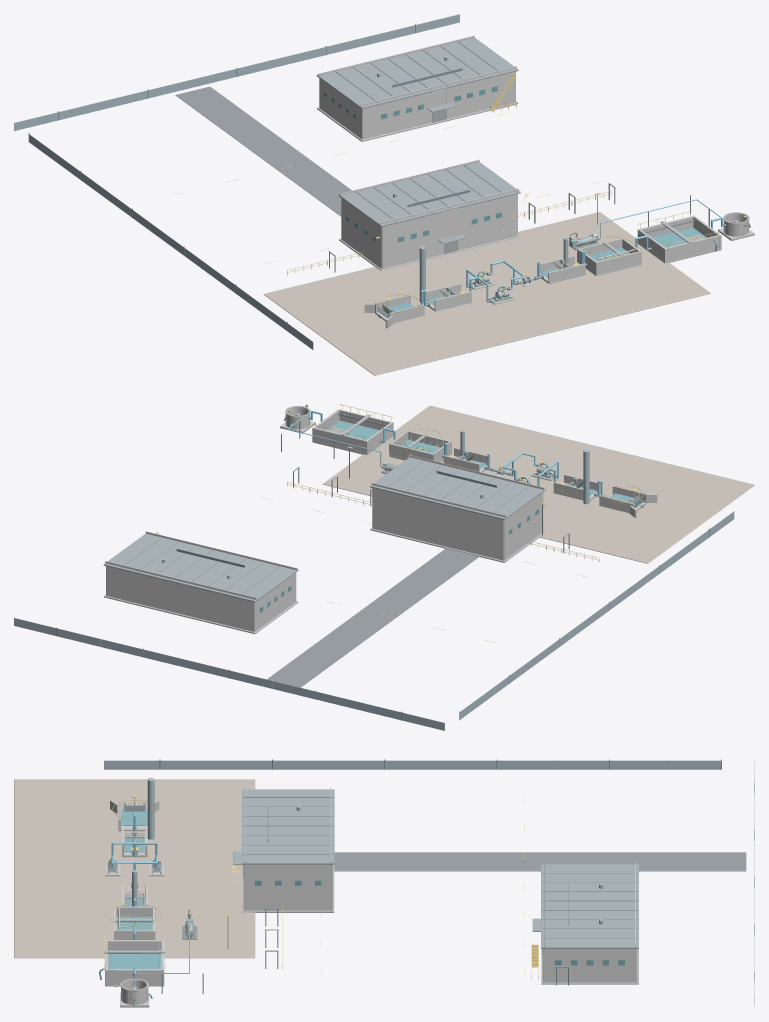
3 views of the same model, one above another, from view 1: azimuth 30°, elevation 25°; view 2: azimuth 150°, elevation 25°; view 3: azimuth 270°, elevation 25° (orthographic). The views are drawn at different scales.
Visible parts, largest first — view 1: render-batch-15, render-batch-17, render-batch-7, render-batch-9, render-batch-16, render-batch-4, render-batch-2, render-batch-1, render-batch-3, render-batch-14, render-batch-19, render-batch-0; view 2: render-batch-15, render-batch-17, render-batch-7, render-batch-9, render-batch-4, render-batch-16, render-batch-2, render-batch-14, render-batch-3, render-batch-1, render-batch-20; view 3: render-batch-15, render-batch-7, render-batch-17, render-batch-4, render-batch-9, render-batch-16, render-batch-2, render-batch-14, render-batch-5, render-batch-3, render-batch-1, render-batch-12.
Part boxes in pixels (x1,y1,x2,y2): render-batch-15: (263,212,710,375); render-batch-17: (318,35,518,268); render-batch-7: (316,38,520,243); render-batch-9: (14,14,615,349); render-batch-16: (364,214,754,328); render-batch-4: (175,86,351,216); render-batch-2: (377,221,750,318); render-batch-1: (28,24,709,331); render-batch-3: (421,199,724,306); render-batch-14: (317,101,520,270); render-batch-19: (287,73,611,274); render-batch-0: (324,86,501,242); render-batch-15: (322,405,754,563); render-batch-17: (105,455,544,631); render-batch-7: (103,457,545,602); render-batch-9: (14,430,734,730); render-batch-4: (267,548,479,687); render-batch-16: (280,407,657,517); render-batch-2: (284,414,644,507); render-batch-14: (104,528,545,634); render-batch-3: (287,410,602,496); render-batch-1: (56,421,709,720); render-batch-20: (288,404,643,502); render-batch-15: (14,779,255,958); render-batch-7: (233,789,638,948); render-batch-17: (243,787,637,982); render-batch-4: (334,852,746,871); render-batch-9: (104,760,754,1005); render-batch-16: (105,800,164,1007); render-batch-2: (99,809,161,1005); render-batch-14: (242,864,638,984); render-batch-5: (104,802,197,1001); render-batch-3: (111,813,189,978); render-batch-1: (111,759,754,993); render-batch-12: (104,797,193,986).
Size of the model in its own units: 103 by 12.03 by 135.
